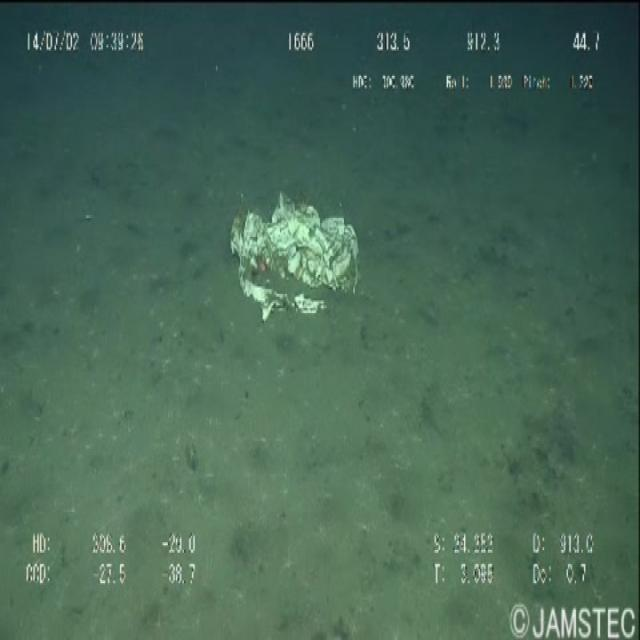Accessories: (218, 180, 378, 348)
